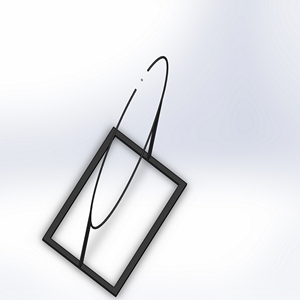circle: (41, 52, 188, 297)
